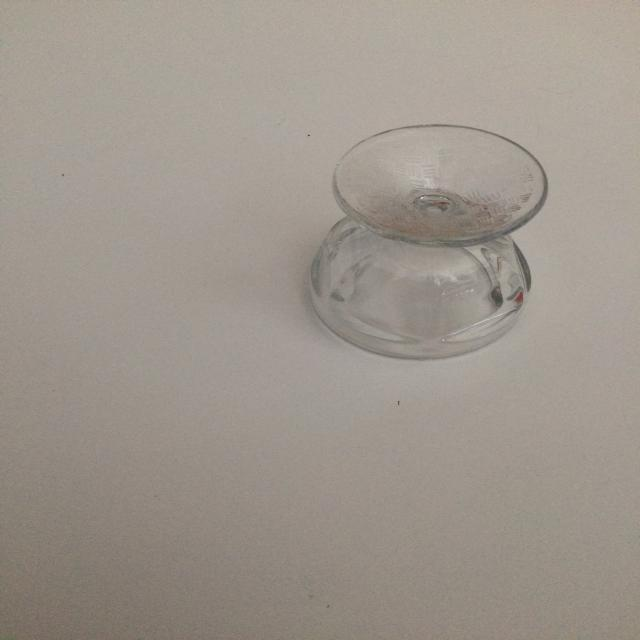glass: (299, 120, 553, 363)
